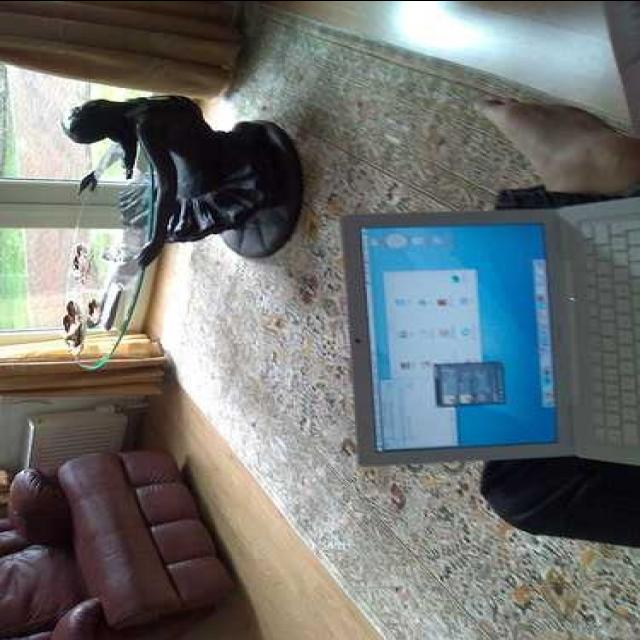laptop: (356, 187, 640, 477)
